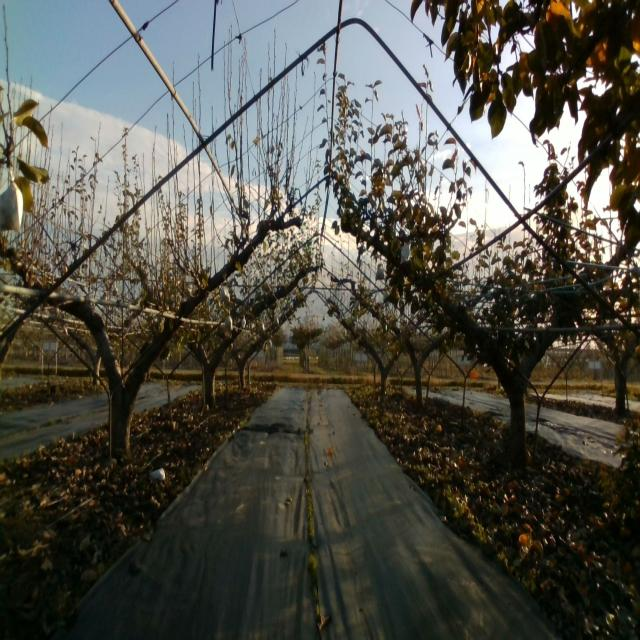pearbags: (0, 175, 24, 233), (400, 244, 412, 264)
